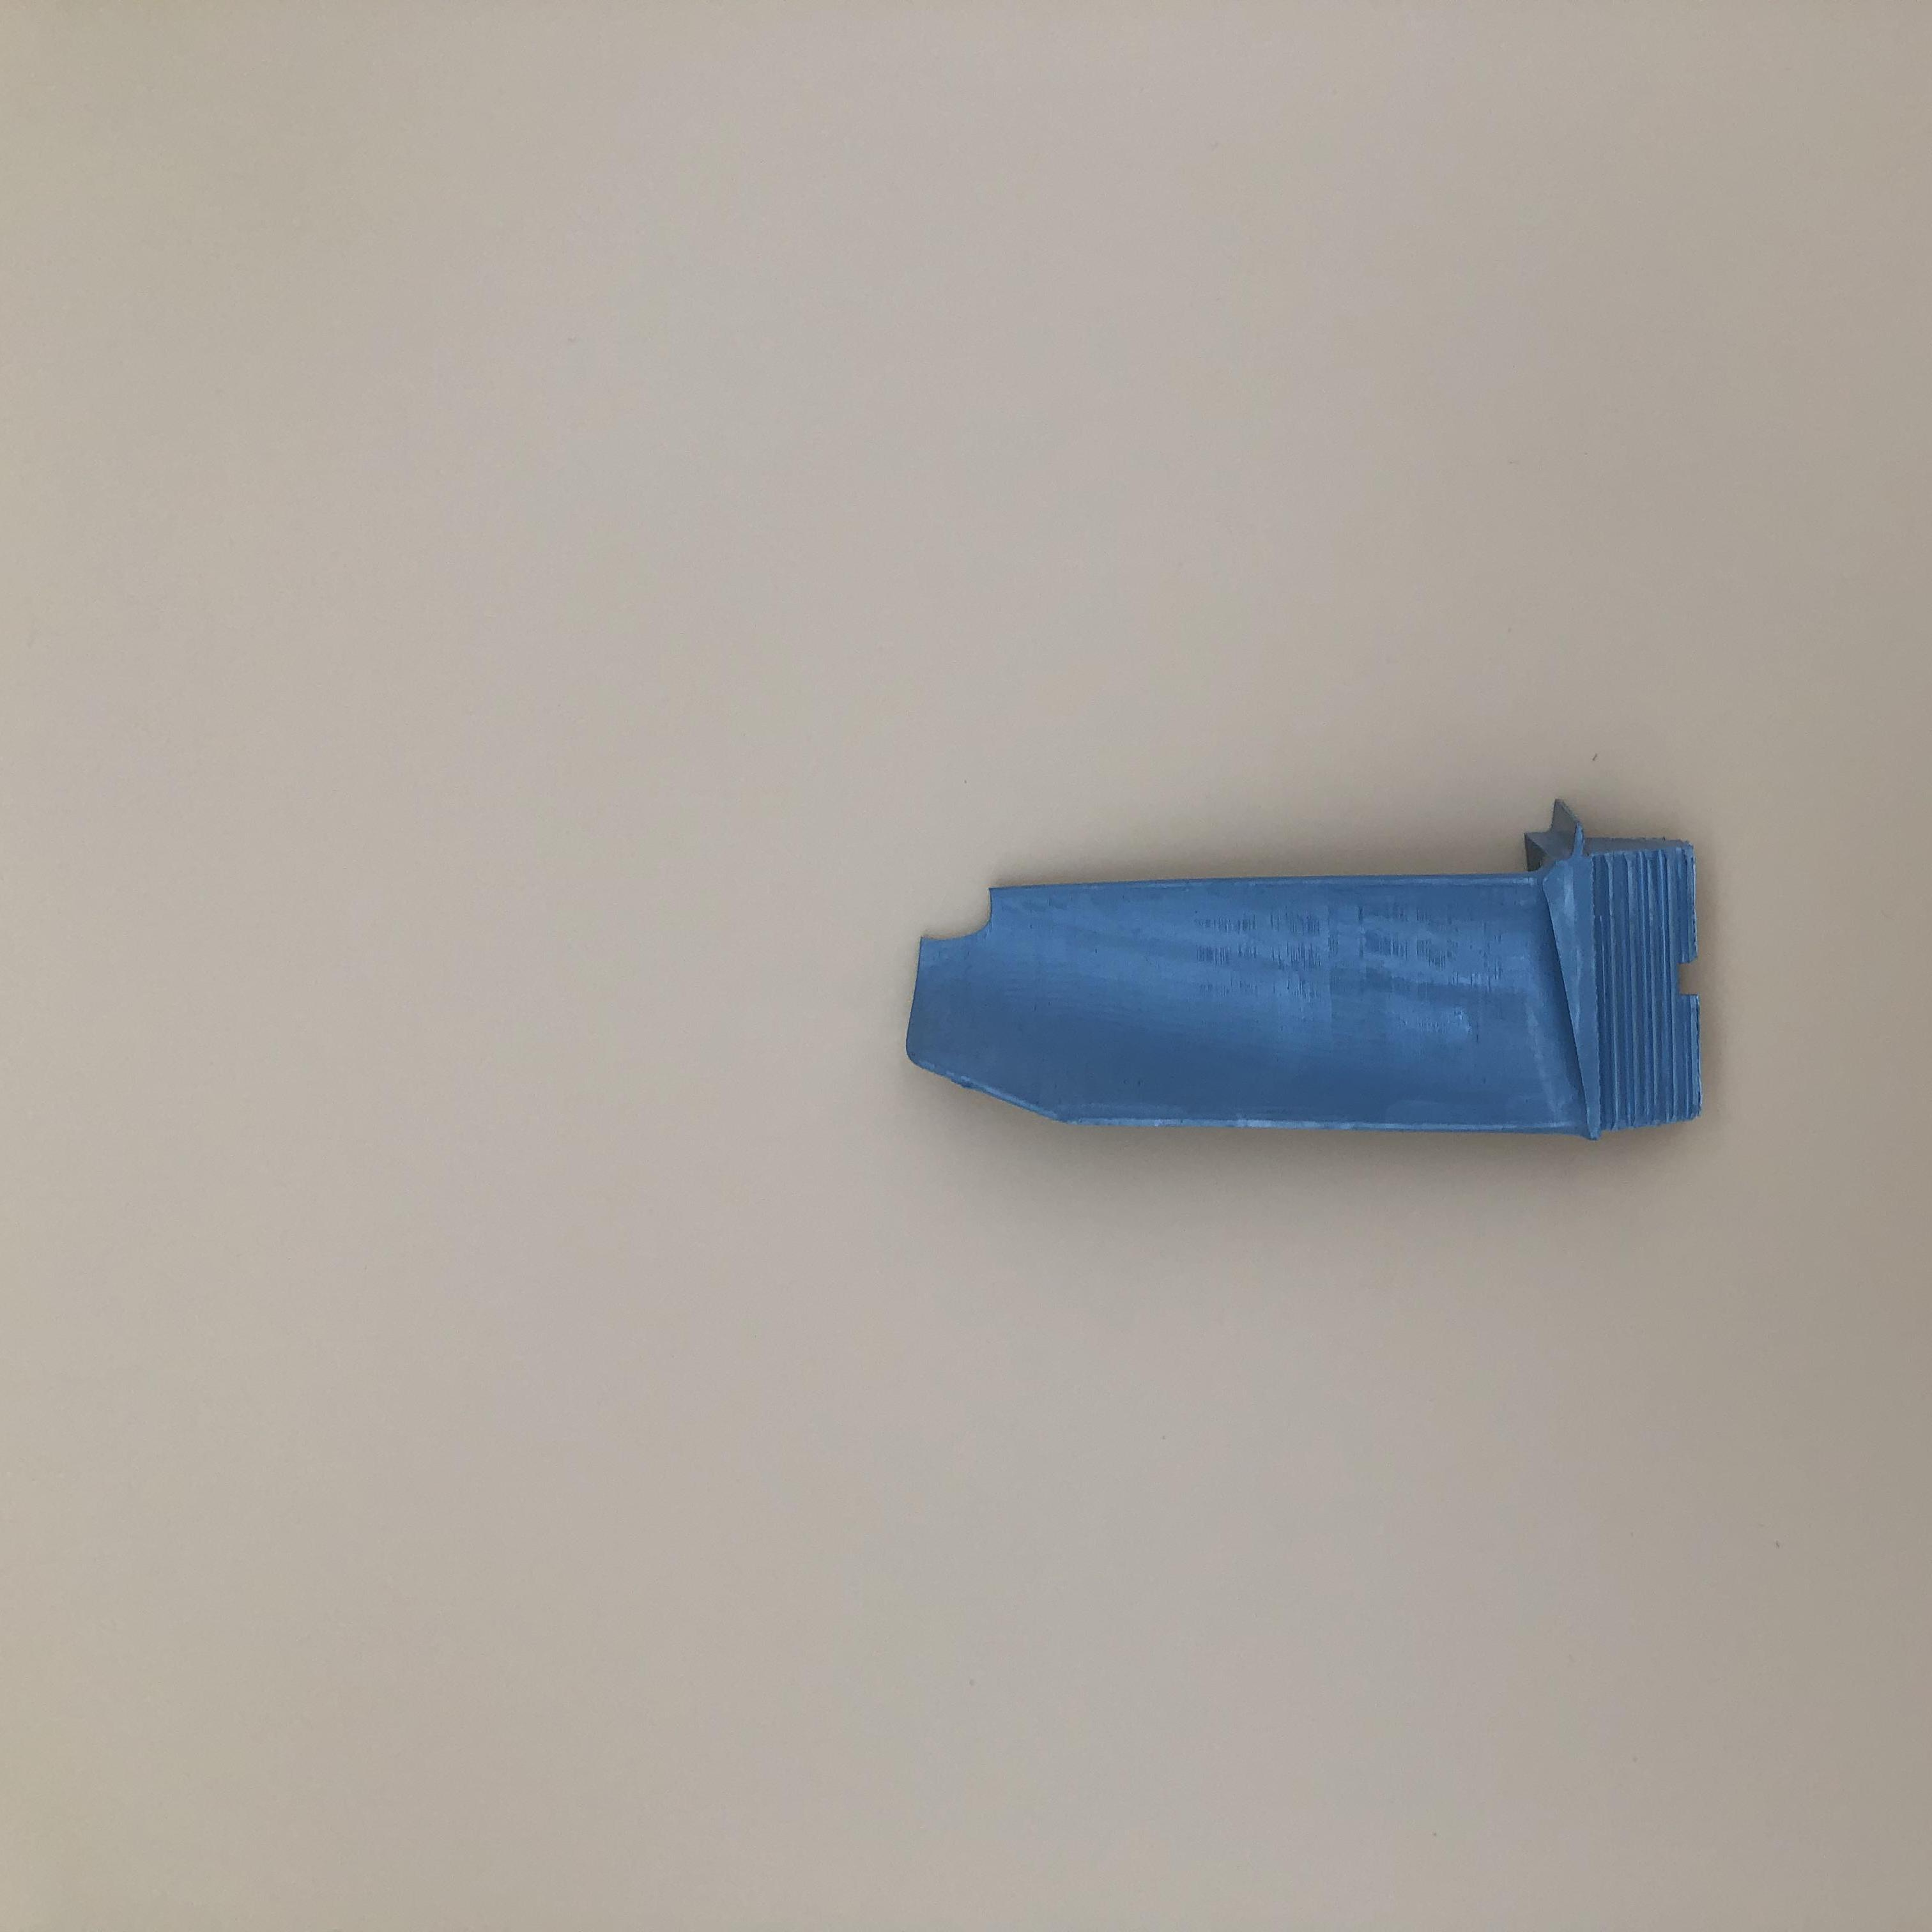fracture: (918, 895, 1037, 945)
